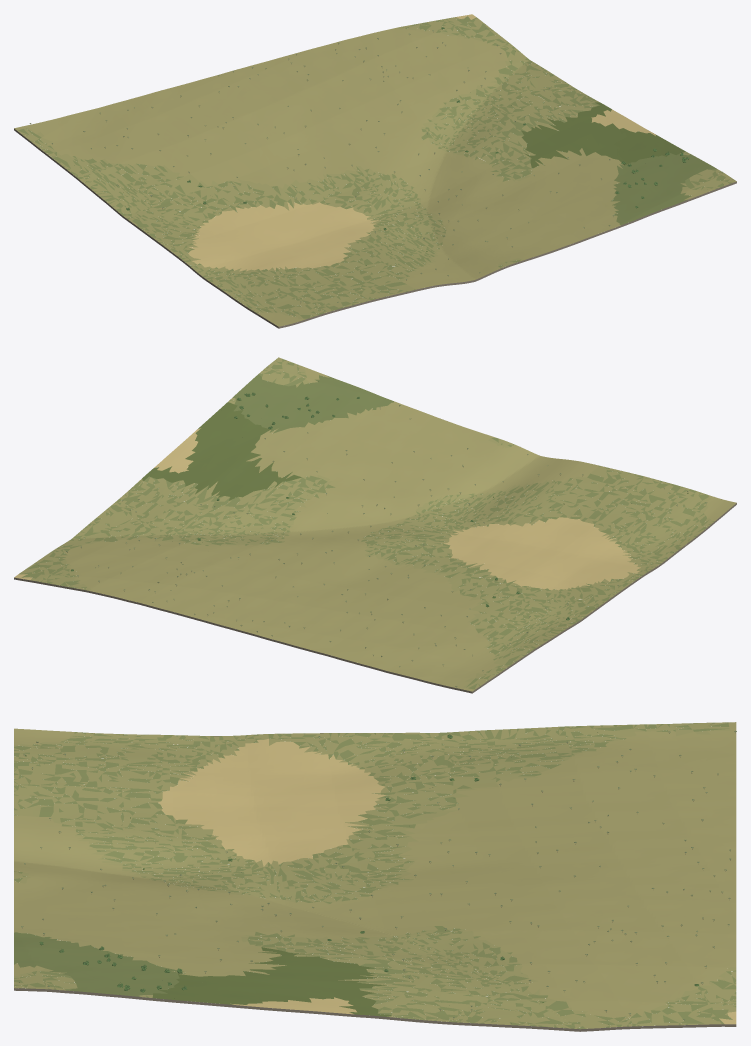
The model's file is parca_+2_-1-yakin.glb.
The picture shows the model from 3 angles, top to bottom: view 1: azimuth 30°, elevation 25°; view 2: azimuth 150°, elevation 25°; view 3: azimuth 270°, elevation 25°; orthographic projection. The views are drawn at different scales.
Parts seen in each view (by area): view 1: parca_+2_-1_arazi, parca_+2_-1_bitkiler; view 2: parca_+2_-1_arazi, parca_+2_-1_bitkiler; view 3: parca_+2_-1_arazi, parca_+2_-1_bitkiler.
Part boxes in pixels (bbox=[...]): parca_+2_-1_arazi: bbox=[14, 14, 736, 328]; parca_+2_-1_bitkiler: bbox=[29, 27, 723, 315]; parca_+2_-1_arazi: bbox=[14, 357, 736, 693]; parca_+2_-1_bitkiler: bbox=[38, 366, 707, 687]; parca_+2_-1_arazi: bbox=[14, 722, 736, 1031]; parca_+2_-1_bitkiler: bbox=[19, 730, 736, 1023].
Size of the model in its own units: 1000 by 88.61 by 1001.
